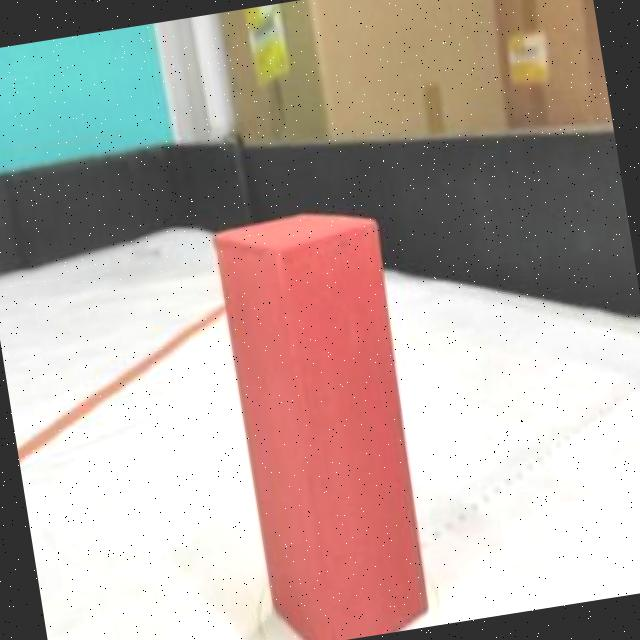redbox: (205, 202, 441, 640)
